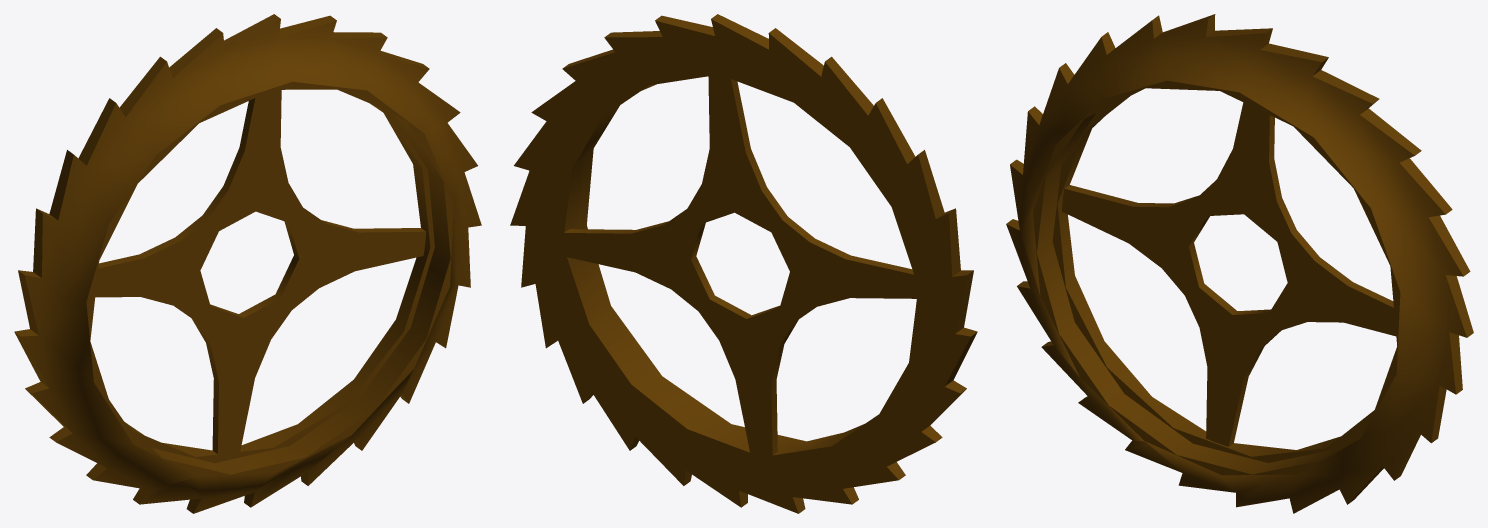
Rendered from Disque dente barillet arriere_Mouvement.obj.
3 views of the same model, side by side, from view 1: azimuth 30°, elevation 25°; view 2: azimuth 150°, elevation 25°; view 3: azimuth 330°, elevation 25° (orthographic).
Visible parts, largest first — view 1: Face_66, Face_2, Face_65, Face_15, Face_1, Face_64, Face_4, Face_12, Face_5, Face_7, Face_23, Face_21 (+4 smaller); view 2: Face_3, Face_1, Face_65, Face_4, Face_5, Face_12, Face_7, Face_23, Face_21, Face_25, Face_19, Face_17 (+1 smaller); view 3: Face_66, Face_2, Face_65, Face_15, Face_1, Face_64, Face_10, Face_12, Face_11, Face_59, Face_61, Face_57 (+4 smaller).
Part boxes in pixels (bbox=[...]): Face_66: bbox=[21, 20, 481, 513]; Face_2: bbox=[95, 90, 426, 454]; Face_65: bbox=[152, 115, 450, 474]; Face_15: bbox=[86, 82, 453, 476]; Face_1: bbox=[125, 104, 430, 456]; Face_64: bbox=[109, 89, 434, 462]; Face_4: bbox=[203, 98, 255, 218]; Face_12: bbox=[210, 221, 299, 317]; Face_5: bbox=[98, 215, 207, 268]; Face_7: bbox=[192, 319, 218, 453]; Face_23: bbox=[78, 98, 115, 165]; Face_21: bbox=[119, 56, 166, 116]; Face_3: bbox=[510, 19, 970, 513]; Face_1: bbox=[564, 84, 864, 455]; Face_65: bbox=[576, 107, 842, 446]; Face_4: bbox=[731, 79, 787, 219]; Face_5: bbox=[782, 216, 913, 274]; Face_12: bbox=[691, 222, 779, 318]; Face_7: bbox=[771, 319, 798, 454]; Face_23: bbox=[876, 98, 915, 163]; Face_21: bbox=[825, 56, 873, 115]; Face_25: bbox=[918, 150, 944, 218]; Face_19: bbox=[769, 28, 823, 76]; Face_17: bbox=[711, 14, 768, 49]; Face_66: bbox=[1006, 19, 1466, 513]; Face_2: bbox=[1062, 102, 1396, 446]; Face_65: bbox=[1037, 113, 1333, 474]; Face_15: bbox=[1033, 80, 1400, 475]; Face_1: bbox=[1057, 117, 1340, 456]; Face_64: bbox=[1052, 96, 1374, 462]; Face_10: bbox=[1292, 230, 1393, 307]; Face_12: bbox=[1189, 216, 1270, 314]; Face_11: bbox=[1269, 115, 1296, 233]; Face_59: bbox=[1399, 158, 1452, 214]; Face_61: bbox=[1360, 108, 1421, 155]; Face_57: bbox=[1429, 215, 1470, 276].
Bounding box in the file's own units: 0.0509 × 0.0508 × 0.005.
